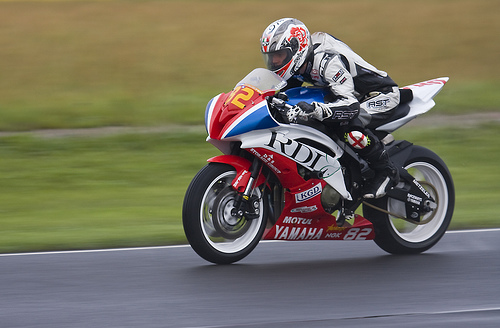helmet: (265, 17, 318, 76)
